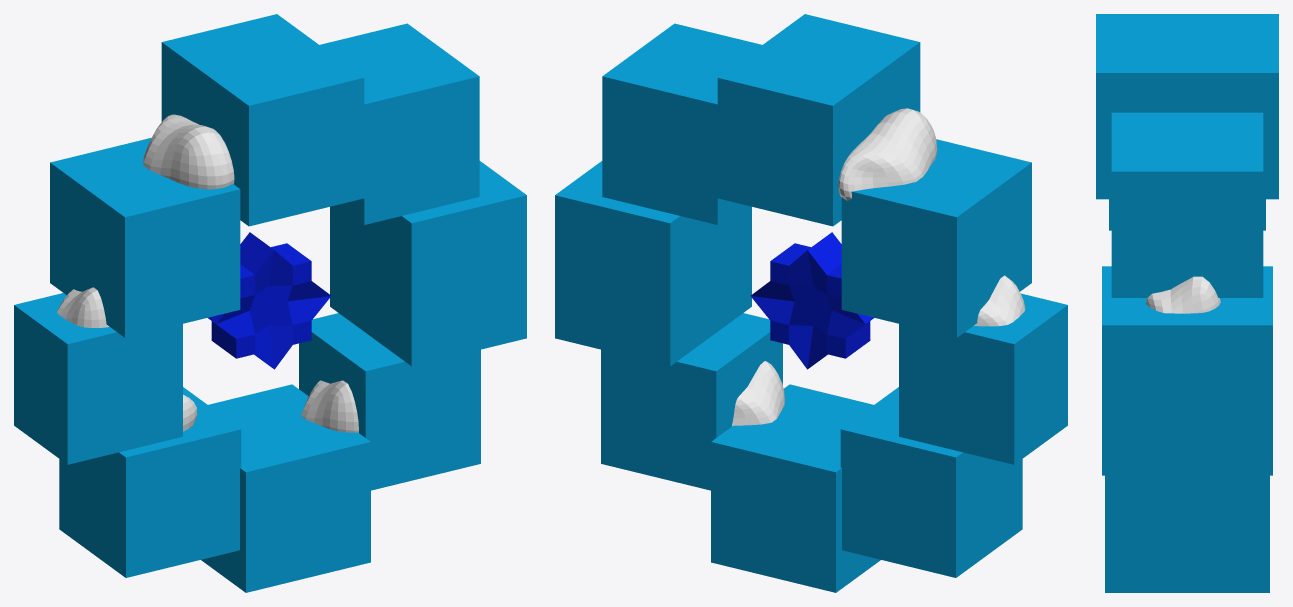
The model's file is rangeEnemyModel.fbx.
The picture shows the model from 3 angles, left to right: view 1: azimuth 30°, elevation 25°; view 2: azimuth 150°, elevation 25°; view 3: azimuth 270°, elevation 25°; orthographic projection. The views are drawn at different scales.
Visible parts, largest first — view 1: Cube, Cube.003, Cube.002, Cube.006, Cube.005, Cube.004, Cube.001, Cube.007, core, show.001, show.004, show.003; view 2: Cube, Cube.002, Cube.003, Cube.006, Cube.005, Cube.004, Cube.001, Cube.007, core, show.001, show.004, show.003; view 3: Cube.002, Cube.001, Cube, Cube.007, Cube.006, show.002.
Part boxes in pixels (x1=…): Cube: x1=161, y1=14, x2=364, y2=226; Cube.003: x1=50, y1=138, x2=240, y2=337; Cube.002: x1=330, y1=161, x2=526, y2=366; Cube.006: x1=201, y1=384, x2=370, y2=592; Cube.005: x1=59, y1=387, x2=241, y2=577; Cube.004: x1=14, y1=293, x2=182, y2=464; Cube.001: x1=320, y1=23, x2=479, y2=224; Cube.007: x1=299, y1=313, x2=480, y2=490; core: x1=208, y1=232, x2=331, y2=369; show.001: x1=143, y1=114, x2=234, y2=189; show.004: x1=301, y1=380, x2=358, y2=432; show.003: x1=57, y1=287, x2=109, y2=327; Cube: x1=717, y1=14, x2=920, y2=226; Cube.002: x1=555, y1=161, x2=751, y2=366; Cube.003: x1=841, y1=139, x2=1031, y2=337; Cube.006: x1=711, y1=384, x2=880, y2=592; Cube.005: x1=840, y1=387, x2=1022, y2=577; Cube.004: x1=899, y1=293, x2=1067, y2=464; Cube.001: x1=602, y1=23, x2=761, y2=224; Cube.007: x1=601, y1=313, x2=782, y2=490; core: x1=750, y1=232, x2=873, y2=369; show.001: x1=838, y1=108, x2=937, y2=200; show.004: x1=732, y1=361, x2=784, y2=426; show.003: x1=974, y1=275, x2=1025, y2=326; Cube.002: x1=1102, y1=266, x2=1272, y2=475; Cube.001: x1=1111, y1=112, x2=1263, y2=297; Cube: x1=1096, y1=14, x2=1278, y2=199; Cube.007: x1=1117, y1=475, x2=1257, y2=583; Cube.006: x1=1105, y1=475, x2=1269, y2=592; show.002: x1=1145, y1=276, x2=1220, y2=313.
Size of the model in its own units: 1.96 by 2.06 by 0.6636.
